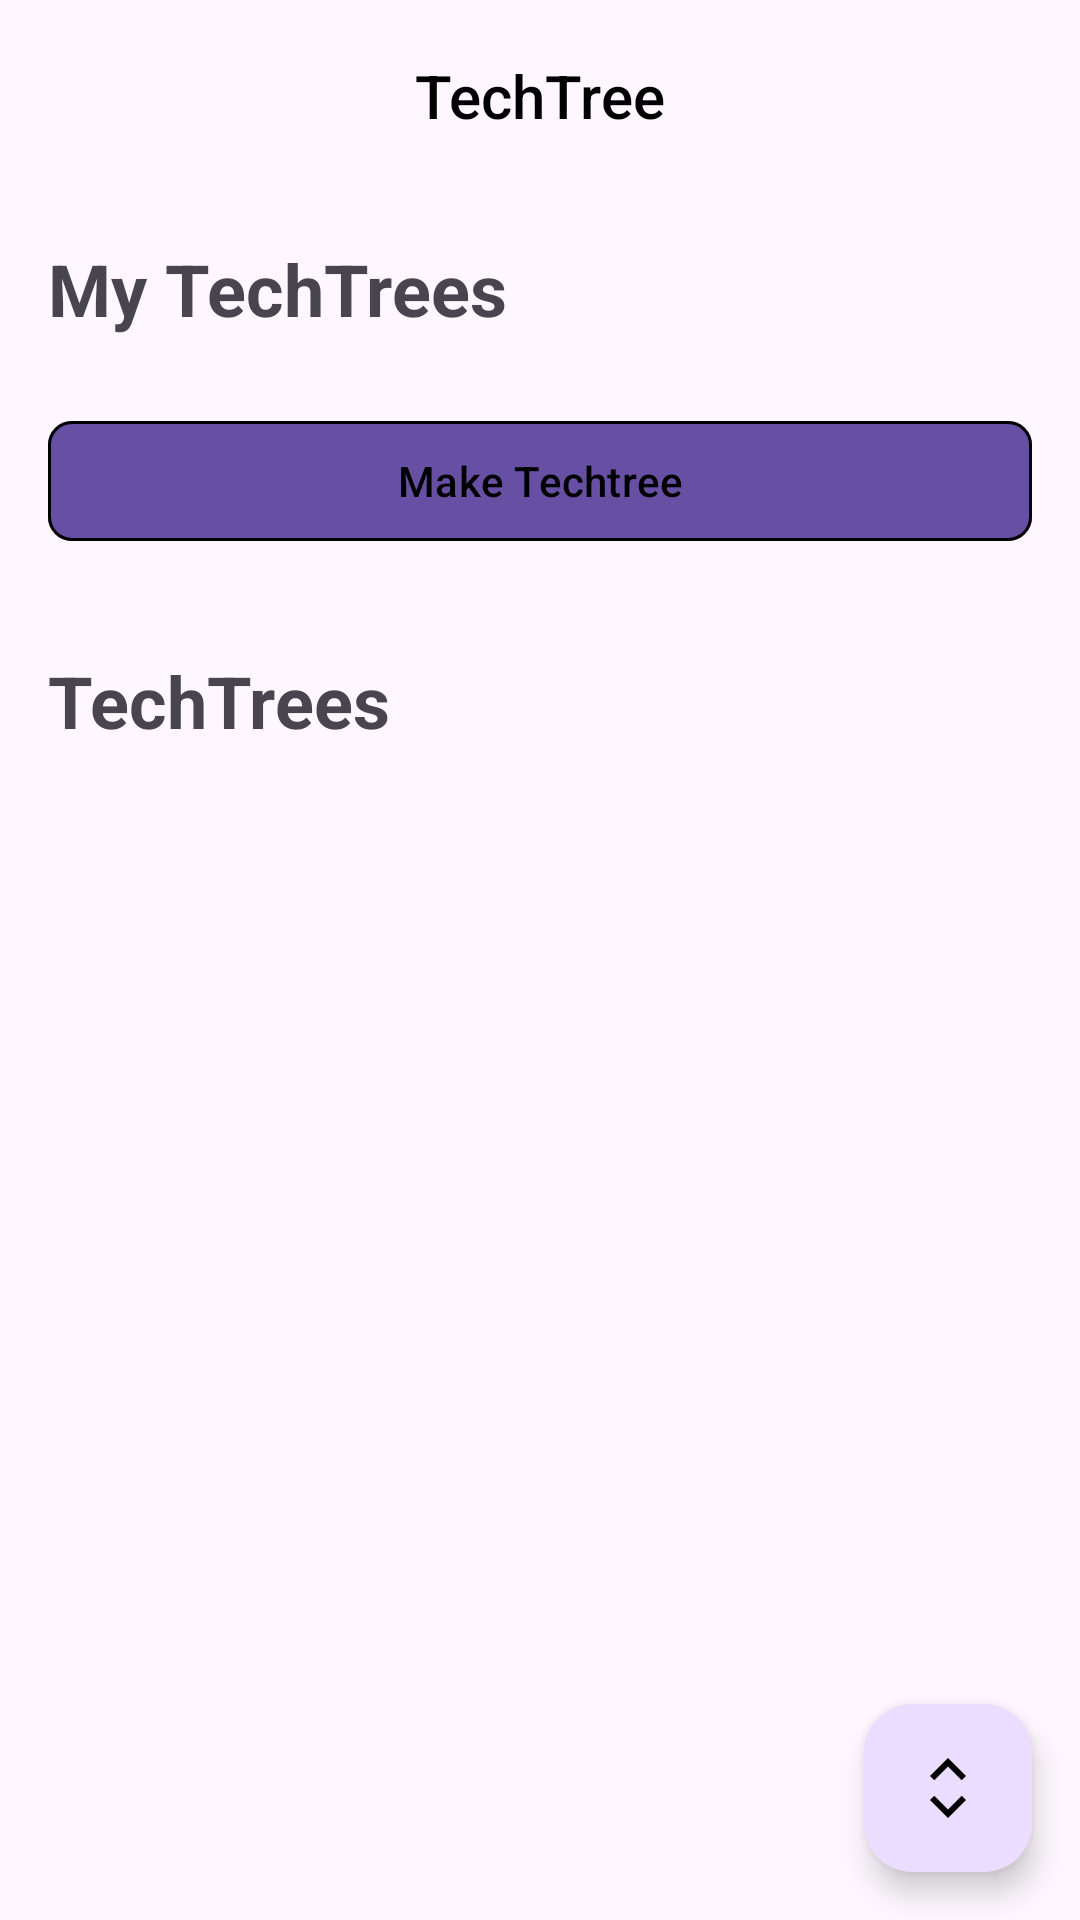

Icon bounding boxes for this 1080*1920 phone screenshot, format [x1,y1,x2,y2]:
expand: [864,1704,1032,1872]
